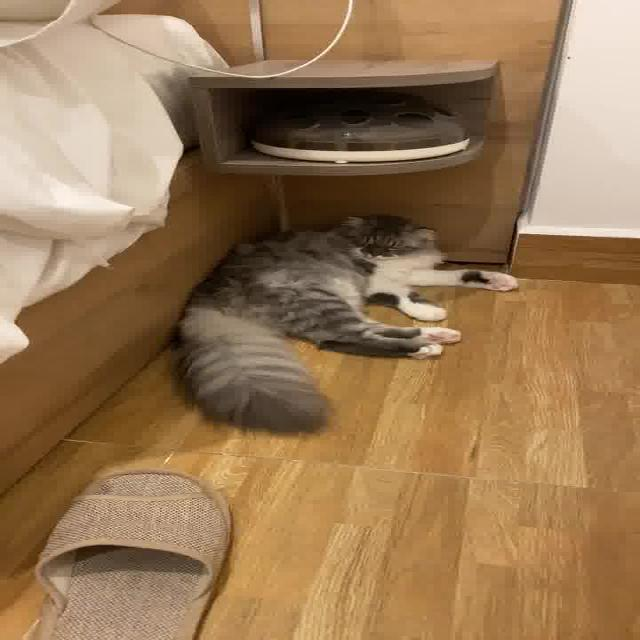cat: (162, 201, 536, 440)
